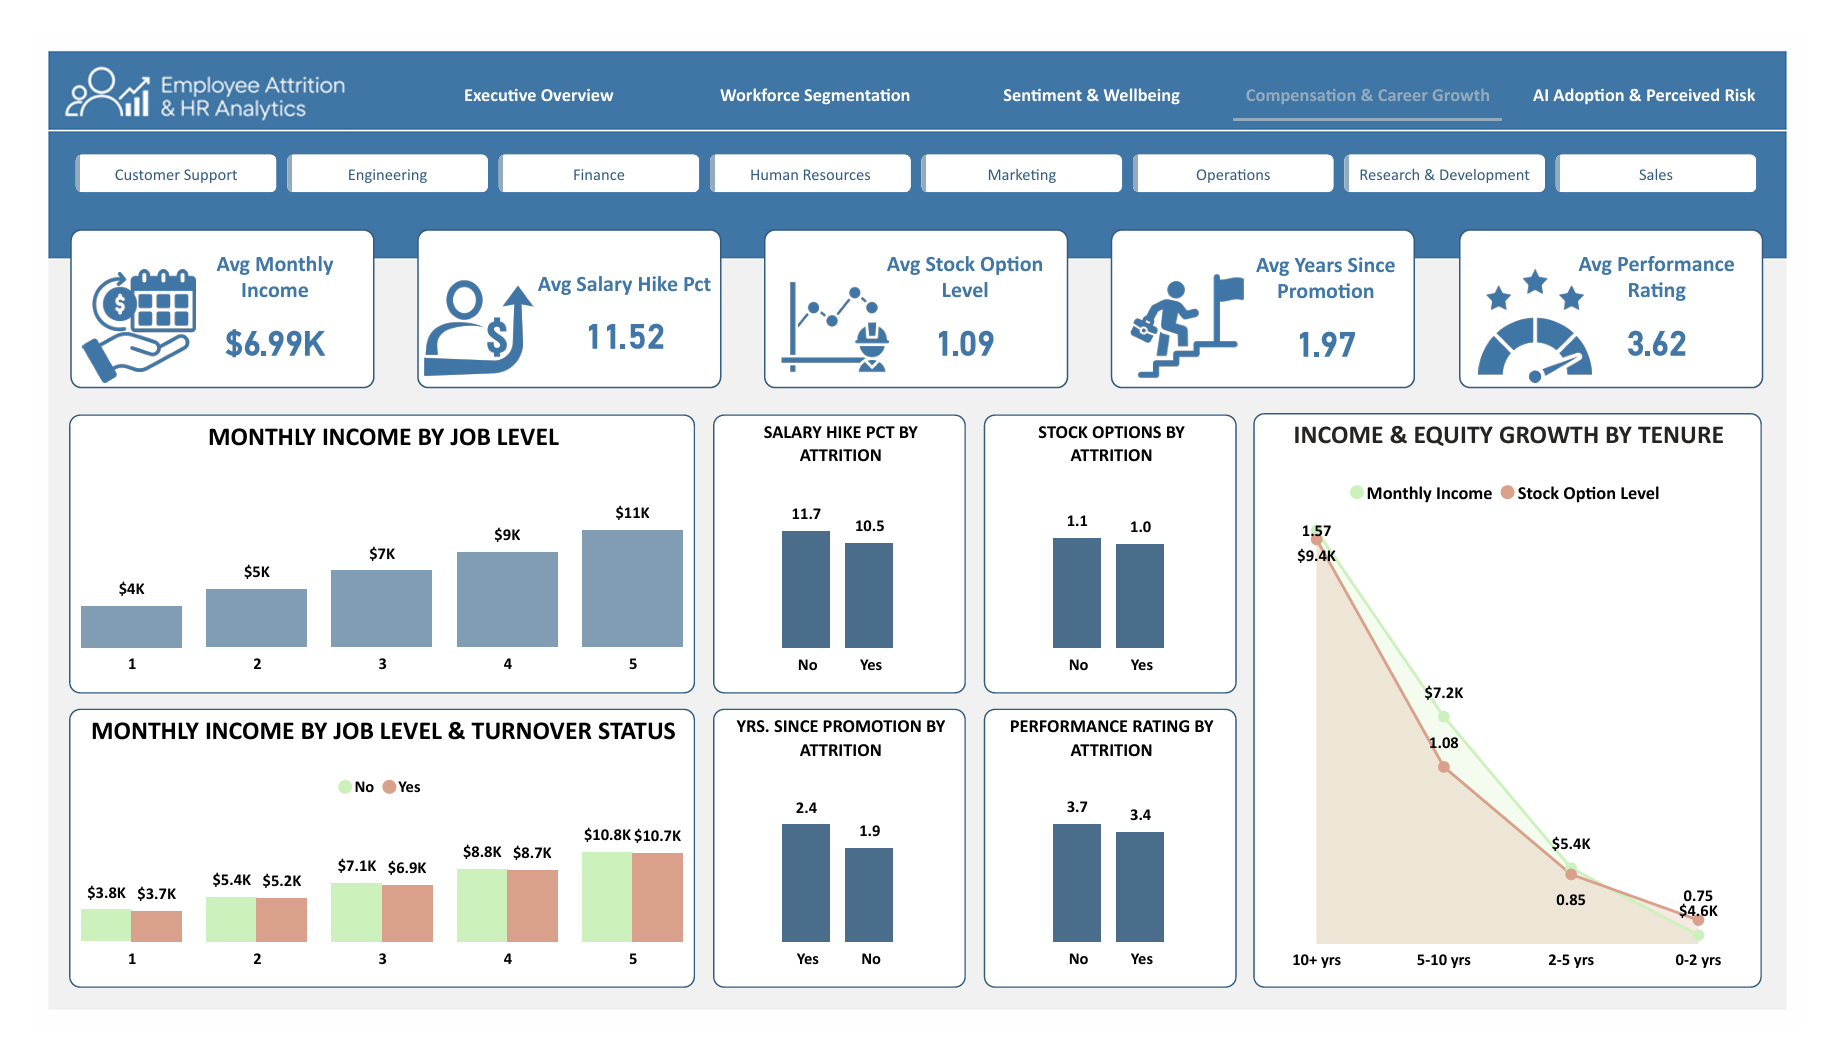

The page's visual inventory and layout, read from the dashboard file:
{"tool":"powerbi","page":{"name":"Compensation & Career Growth","canvas":[1280,720],"ordinal":4},"visuals":[{"type":"columnChart","title":"MONTHLY INCOME BY JOB LEVEL","fields":{"Category":["vw_dashboard_employees.job_level"],"Y":["measures_table.Avg Monthly Income"]},"box":[26.2,275.8,453,202.1],"z":0},{"type":"clusteredColumnChart","title":"MONTHLY INCOME BY JOB LEVEL & TURNOVER STATUS","fields":{"Category":["vw_dashboard_employees.job_level"],"Series":["vw_dashboard_employees.attrition"],"Y":["measures_table.Avg Monthly Income"]},"box":[26.2,489.1,453,202.1],"z":1000},{"type":"columnChart","title":"SALARY HIKE PCT BY ATTRITION ","fields":{"Category":["vw_dashboard_employees.attrition"],"Y":["measures_table.Avg Salary Hike Pct"]},"box":[491.6,275.8,183.4,202.1],"z":2000},{"type":"pageNavigator","box":[268.6,24.3,995.7,40],"z":3000},{"type":"advancedSlicerVisual","fields":{"Values":["vw_dashboard_employees.department"]},"box":[26.2,82.5,1226.2,37.5],"z":4000},{"type":"shape","box":[529,142,220,115],"z":5000},{"type":"shape","box":[780.3,142,220,115],"z":6000},{"type":"shape","box":[1031.5,142,220,115],"z":7000},{"type":"card","title":"Avg Stock Option Level","fields":{"Values":["measures_table.Avg Stock Option Level"]},"box":[600.2,157.2,148.5,84.9],"z":8000},{"type":"card","title":"Avg Years Since Promotion","fields":{"Values":["measures_table.Avg Years Since Promotion"]},"box":[871.1,158,129.1,84.5],"z":10000},{"type":"image","box":[779.4,171.3,111,82],"z":11000},{"type":"card","title":"Avg Performance Rating","fields":{"Values":["measures_table.Avg Performance Rating"]},"box":[1100.3,156.8,150,85],"z":12000},{"type":"image","box":[1031.5,171.3,109.8,82],"z":13000},{"type":"shape","box":[26.5,142,220,115],"z":14000},{"type":"card","title":"Avg Monthly Income","fields":{"Values":["measures_table.Avg Monthly Income"]},"box":[103.6,157.2,142.3,84.9],"z":15000},{"type":"image","box":[26.5,171.3,100.1,82],"z":16000},{"type":"shape","box":[277.8,142,220,115],"z":17000},{"type":"image","box":[277.5,173.7,90.5,79.6],"z":18000},{"type":"card","title":"Avg Salary Hike Pct","fields":{"Values":["measures_table.Avg Salary Hike Pct"]},"box":[353.1,171.8,149.6,62.7],"z":19000},{"type":"columnChart","title":"STOCK OPTIONS BY ATTRITION","fields":{"Category":["vw_dashboard_employees.attrition"],"Y":["measures_table.Avg Stock Option Level"]},"box":[687.5,275.8,183.4,202.1],"z":20000},{"type":"columnChart","title":"YRS. SINCE PROMOTION BY ATTRITION","fields":{"Category":["vw_dashboard_employees.attrition"],"Y":["measures_table.Avg Years Since Promotion"]},"box":[491.6,489.1,183.4,202.1],"z":21000},{"type":"columnChart","title":"PERFORMANCE RATING BY ATTRITION","fields":{"Category":["vw_dashboard_employees.attrition"],"Y":["measures_table.Avg Performance Rating"]},"box":[687.5,489.1,183.4,202.1],"z":22000},{"type":"lineChart","title":"INCOME & EQUITY GROWTH BY TENURE","fields":{"Category":["vw_dashboard_employees.tenure_band"],"Y":["measures_table.Avg Monthly Income"],"Y2":["measures_table.Avg Stock Option Level"]},"box":[882.5,275,368.8,416.2],"z":23000},{"type":"image","box":[521.2,173.7,118.2,79.6],"z":23001}]}

Visuals, with their boxes in screenshot pixels (x1, y1, x2, y2), scaled from the page's 1280x720 canvas onto the 1835x1060 screenshot:
"MONTHLY INCOME BY JOB LEVEL" columnChart: rect(38, 406, 687, 704)
"MONTHLY INCOME BY JOB LEVEL & TURNOVER STATUS" clusteredColumnChart: rect(38, 720, 687, 1018)
"SALARY HIKE PCT BY ATTRITION " columnChart: rect(705, 406, 968, 704)
pageNavigator: rect(385, 36, 1812, 95)
advancedSlicerVisual - vw_dashboard_employees.department: rect(38, 121, 1795, 177)
shape: rect(758, 209, 1074, 378)
shape: rect(1119, 209, 1434, 378)
shape: rect(1479, 209, 1794, 378)
"Avg Stock Option Level" card: rect(860, 231, 1073, 356)
"Avg Years Since Promotion" card: rect(1249, 233, 1434, 357)
image: rect(1117, 252, 1276, 373)
"Avg Performance Rating" card: rect(1577, 231, 1792, 356)
image: rect(1479, 252, 1636, 373)
shape: rect(38, 209, 353, 378)
"Avg Monthly Income" card: rect(149, 231, 353, 356)
image: rect(38, 252, 181, 373)
shape: rect(398, 209, 714, 378)
image: rect(398, 256, 528, 373)
"Avg Salary Hike Pct" card: rect(506, 253, 721, 345)
"STOCK OPTIONS BY ATTRITION" columnChart: rect(986, 406, 1249, 704)
"YRS. SINCE PROMOTION BY ATTRITION" columnChart: rect(705, 720, 968, 1018)
"PERFORMANCE RATING BY ATTRITION" columnChart: rect(986, 720, 1249, 1018)
"INCOME & EQUITY GROWTH BY TENURE" lineChart: rect(1265, 405, 1794, 1018)
image: rect(747, 256, 917, 373)
